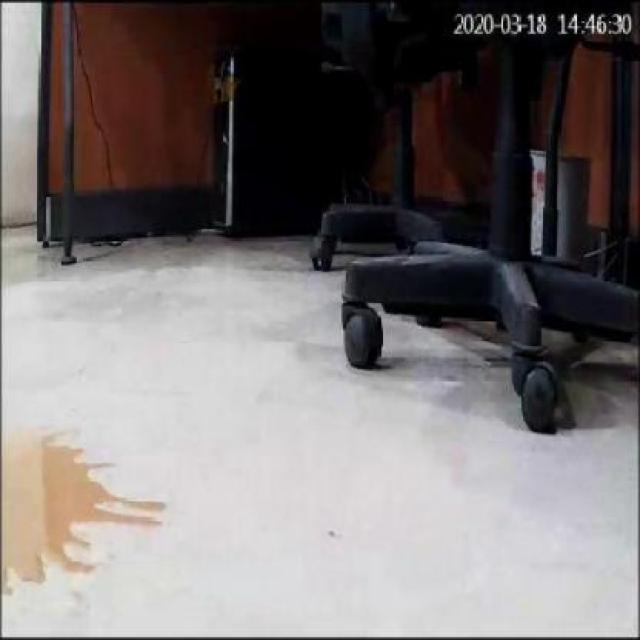spillage: (3, 429, 162, 586)
